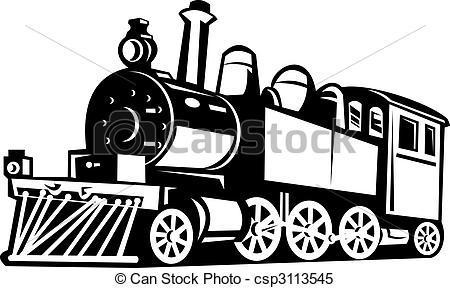train: (3, 1, 448, 267)
